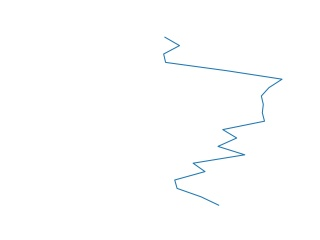floodPlain: (161, 34, 285, 208)
